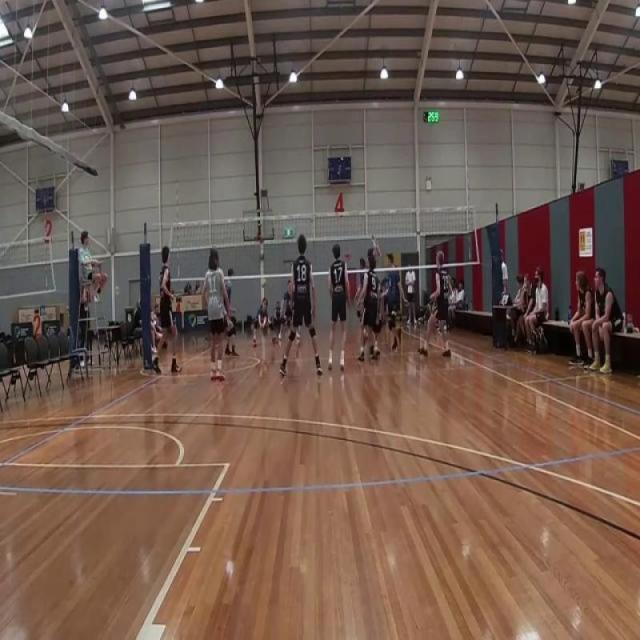volleyball: (260, 277, 268, 289)
